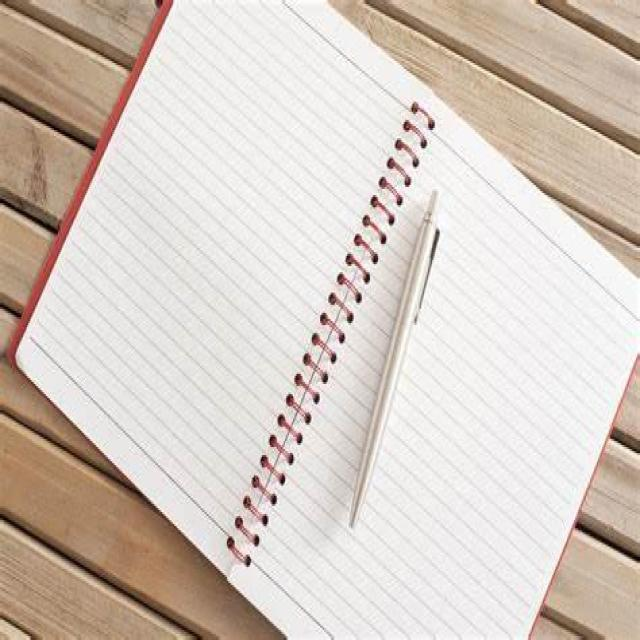paper: (5, 0, 640, 640)
